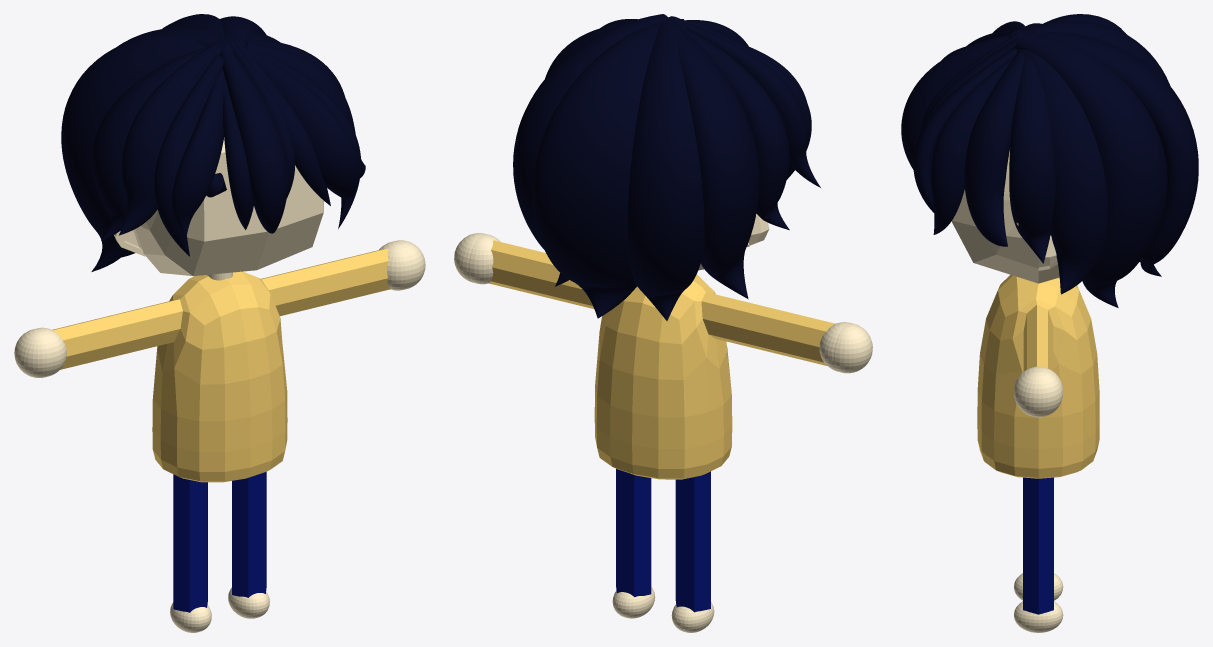
File: original_1.fbx
The picture shows the model from 3 angles, left to right: view 1: azimuth 30°, elevation 25°; view 2: azimuth 150°, elevation 25°; view 3: azimuth 270°, elevation 25°; orthographic projection. The views are drawn at different scales.
Visible parts, largest first — view 1: 立方体.003; view 2: 立方体.003; view 3: 立方体.003.
Boxes of the visible parts, box(x1,y1,x2,y2) form: 立方体.003: box(14, 14, 425, 632); 立方体.003: box(454, 14, 872, 632); 立方体.003: box(901, 14, 1198, 632).
Size of the model in its own units: 3.09 by 4.3 by 1.98.
